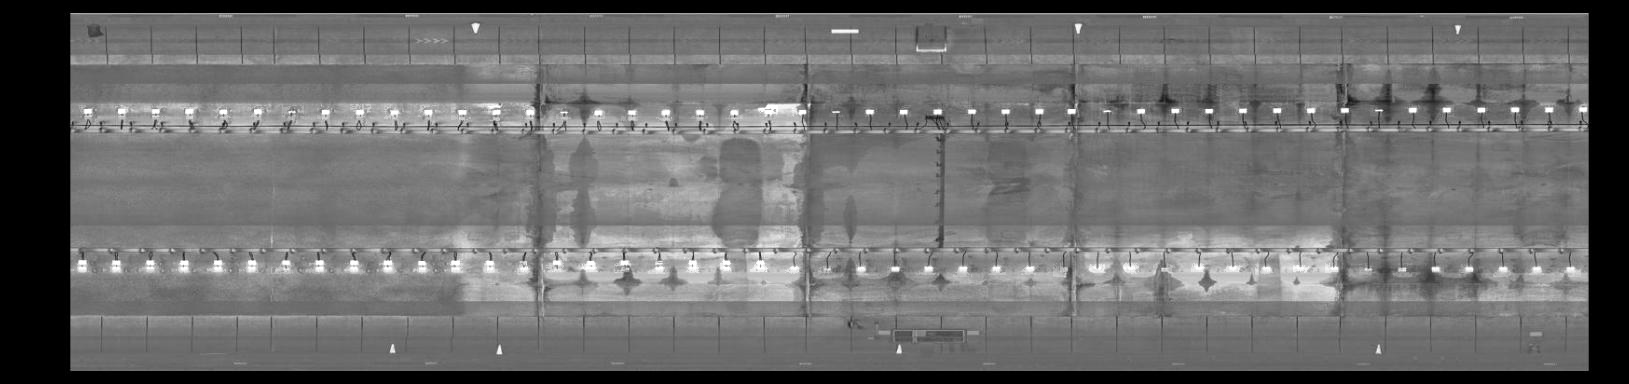light: (345, 256, 365, 276), (309, 258, 331, 275), (271, 257, 293, 274), (542, 258, 568, 272), (1560, 262, 1581, 277), (1053, 262, 1074, 277), (350, 103, 371, 118), (379, 257, 398, 274), (1391, 263, 1412, 277), (1493, 260, 1511, 277), (1199, 104, 1218, 119), (953, 263, 972, 277), (758, 105, 778, 119), (522, 105, 541, 119), (241, 258, 261, 273), (282, 105, 304, 117), (480, 259, 501, 273), (621, 105, 638, 121), (445, 259, 463, 274), (1459, 262, 1478, 275), (1120, 262, 1140, 275), (451, 107, 471, 120), (207, 258, 226, 272), (648, 258, 665, 274), (1437, 103, 1454, 117), (1255, 260, 1273, 275), (412, 260, 430, 275), (1301, 104, 1319, 117), (749, 260, 768, 274), (175, 259, 193, 273), (144, 106, 166, 117), (1424, 265, 1444, 277), (1153, 263, 1173, 275), (1086, 263, 1105, 275), (581, 259, 600, 272), (180, 107, 199, 119), (78, 105, 98, 117), (106, 260, 126, 273), (684, 257, 699, 273), (1359, 260, 1376, 275), (588, 105, 605, 119), (614, 258, 631, 273), (514, 260, 531, 275), (488, 106, 503, 122), (317, 105, 333, 119), (988, 262, 1006, 275), (725, 106, 743, 119), (73, 259, 90, 273), (1063, 105, 1081, 117), (851, 263, 870, 275), (418, 105, 436, 117), (384, 107, 403, 119), (1269, 103, 1283, 118), (656, 108, 672, 121), (1370, 104, 1388, 116), (893, 105, 911, 117), (690, 107, 707, 119), (138, 258, 159, 269), (919, 264, 938, 275), (213, 107, 231, 118), (1336, 103, 1351, 116), (1529, 262, 1544, 275), (1021, 262, 1036, 275), (1166, 106, 1184, 116), (1032, 105, 1047, 117), (556, 107, 571, 119), (250, 105, 266, 117), (1325, 263, 1341, 274), (1191, 260, 1207, 272), (1130, 106, 1148, 116), (1224, 262, 1241, 272), (1507, 104, 1521, 117), (887, 264, 902, 276), (719, 258, 733, 271), (113, 105, 128, 117), (1541, 104, 1556, 115), (1405, 104, 1420, 115), (1293, 262, 1309, 273), (963, 105, 980, 115), (1235, 106, 1250, 117), (997, 106, 1013, 116), (785, 264, 801, 274), (818, 265, 834, 274), (862, 108, 879, 117), (792, 108, 808, 117), (1474, 104, 1488, 115), (1573, 104, 1587, 114), (930, 107, 946, 115), (829, 108, 843, 117), (1100, 107, 1114, 115)
